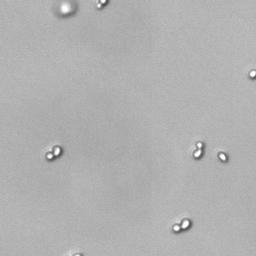budding: (172, 217, 191, 233), (45, 144, 62, 161), (192, 141, 204, 160), (96, 1, 110, 9)
individual: (217, 150, 227, 161), (249, 70, 256, 78)
